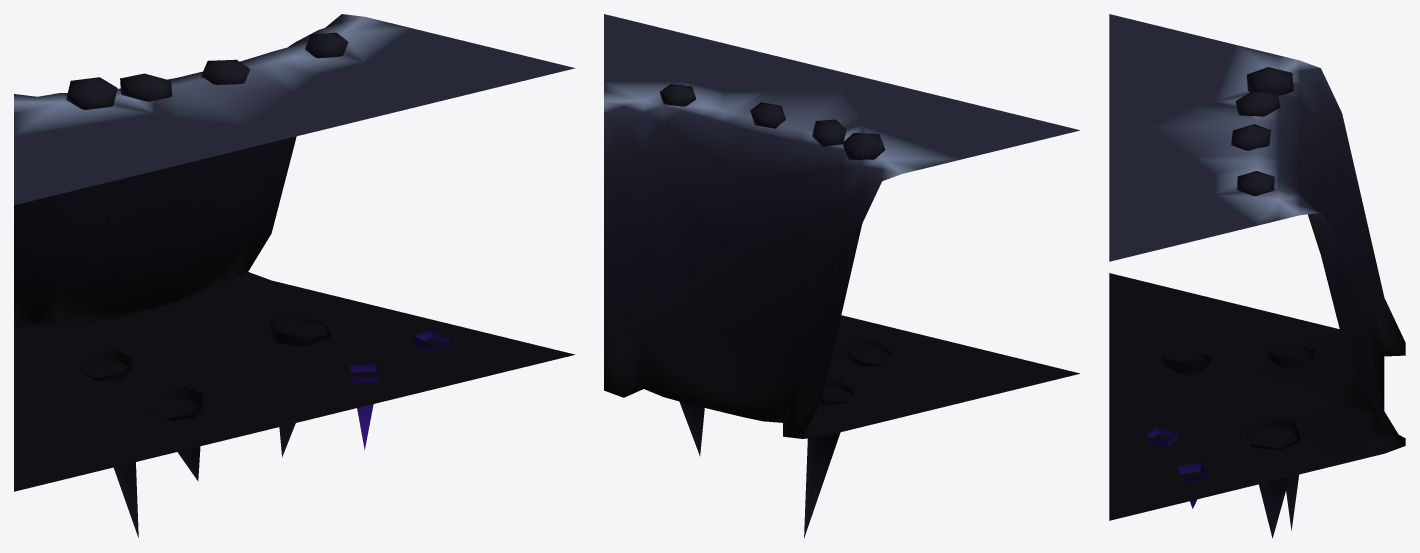
Rendered from MODULE_HOLLOW_SHORT_OUT.fbx.
3 views of the same model, side by side, from view 1: azimuth 30°, elevation 25°; view 2: azimuth 150°, elevation 25°; view 3: azimuth 270°, elevation 25° (orthographic). The views are drawn at different scales.
Visible parts, largest first — view 1: MODULE_HOLLOW_SHORT_OUT__export, MODULE_HOLLOW_SHORT_OUT_DECOR__export; view 2: MODULE_HOLLOW_SHORT_OUT__export, MODULE_HOLLOW_SHORT_OUT_DECOR__export; view 3: MODULE_HOLLOW_SHORT_OUT__export, MODULE_HOLLOW_SHORT_OUT_DECOR__export.
Boxes of the visible parts, bbox=[...] form: MODULE_HOLLOW_SHORT_OUT__export: bbox=[14, 14, 575, 491]; MODULE_HOLLOW_SHORT_OUT_DECOR__export: bbox=[66, 32, 451, 537]; MODULE_HOLLOW_SHORT_OUT__export: bbox=[604, 14, 1079, 438]; MODULE_HOLLOW_SHORT_OUT_DECOR__export: bbox=[660, 84, 892, 538]; MODULE_HOLLOW_SHORT_OUT__export: bbox=[1109, 14, 1405, 520]; MODULE_HOLLOW_SHORT_OUT_DECOR__export: bbox=[1145, 67, 1315, 538].
Size of the model in its own units: 100 by 82.12 by 50.52.
